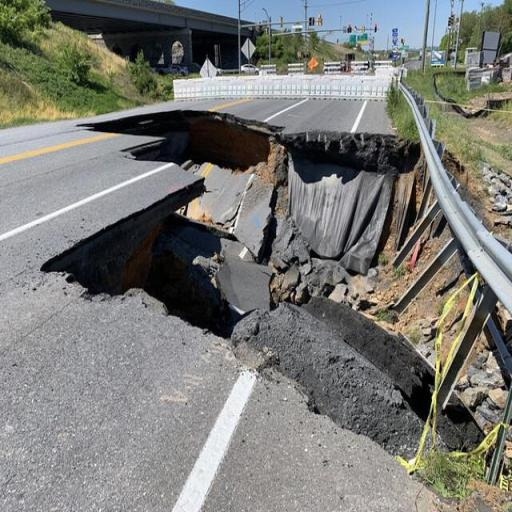Concentric_Crack: (42, 107, 512, 511), (457, 184, 483, 213), (448, 156, 463, 183)
